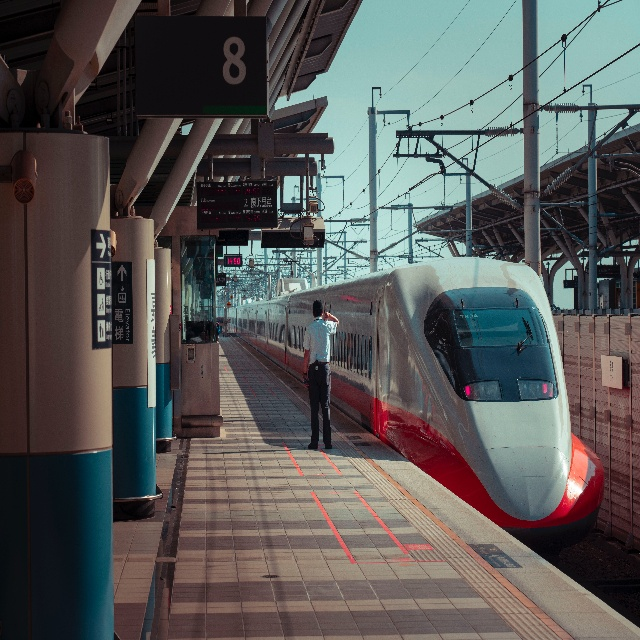Sin_guantes: (303, 376, 309, 388), (323, 311, 329, 321)
